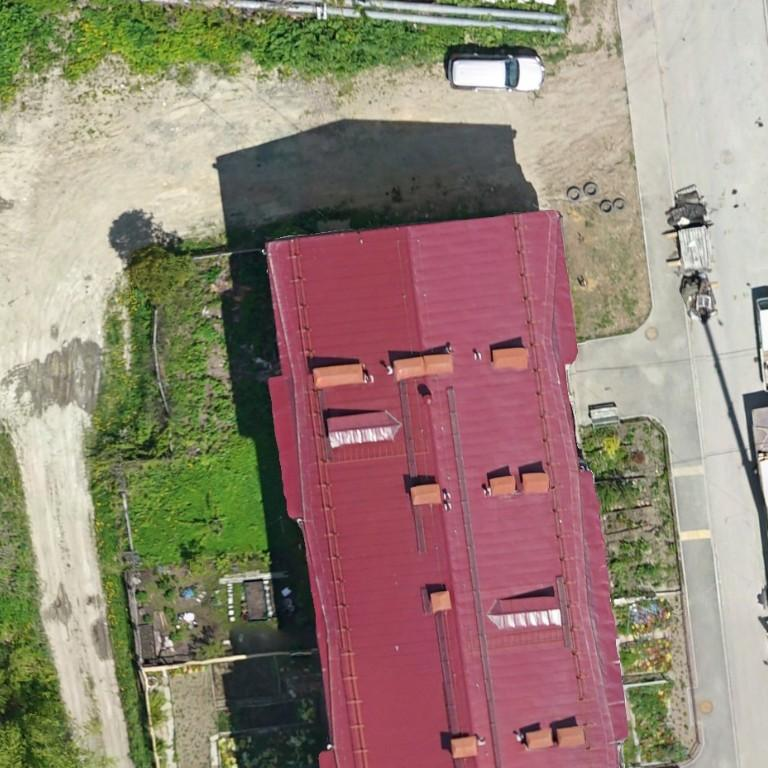hogweed: (254, 17, 429, 67), (0, 3, 41, 78), (117, 17, 159, 49)
